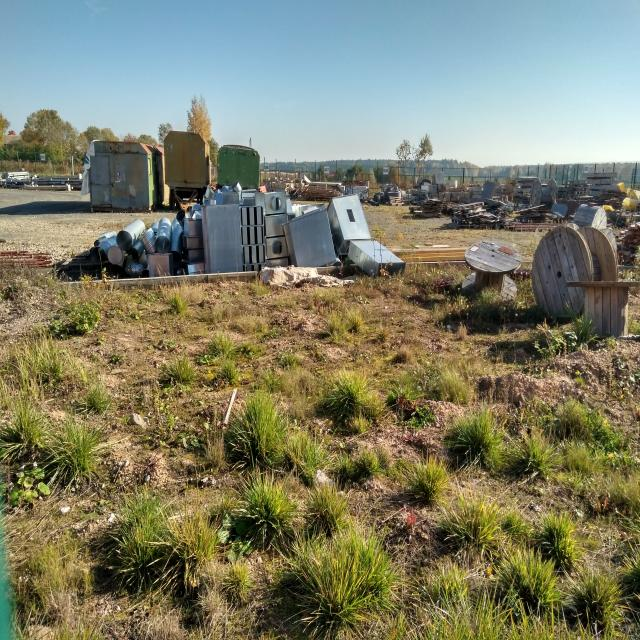entulho: (530, 217, 614, 321), (58, 226, 158, 282), (569, 275, 640, 348), (463, 239, 519, 303), (202, 203, 247, 280), (285, 209, 340, 270), (328, 194, 375, 256), (258, 188, 294, 268), (157, 216, 206, 274), (452, 204, 511, 232), (241, 202, 265, 267), (582, 168, 624, 199), (5, 247, 52, 272), (615, 222, 640, 266), (514, 205, 557, 230), (576, 203, 609, 230), (407, 199, 454, 217), (532, 176, 558, 208), (264, 175, 300, 196), (298, 185, 340, 200), (443, 177, 469, 201), (34, 177, 82, 190), (411, 176, 438, 199), (3, 171, 35, 190), (562, 179, 588, 202), (377, 186, 404, 207), (499, 181, 519, 204), (518, 173, 536, 197), (482, 176, 496, 202), (468, 183, 484, 198)
